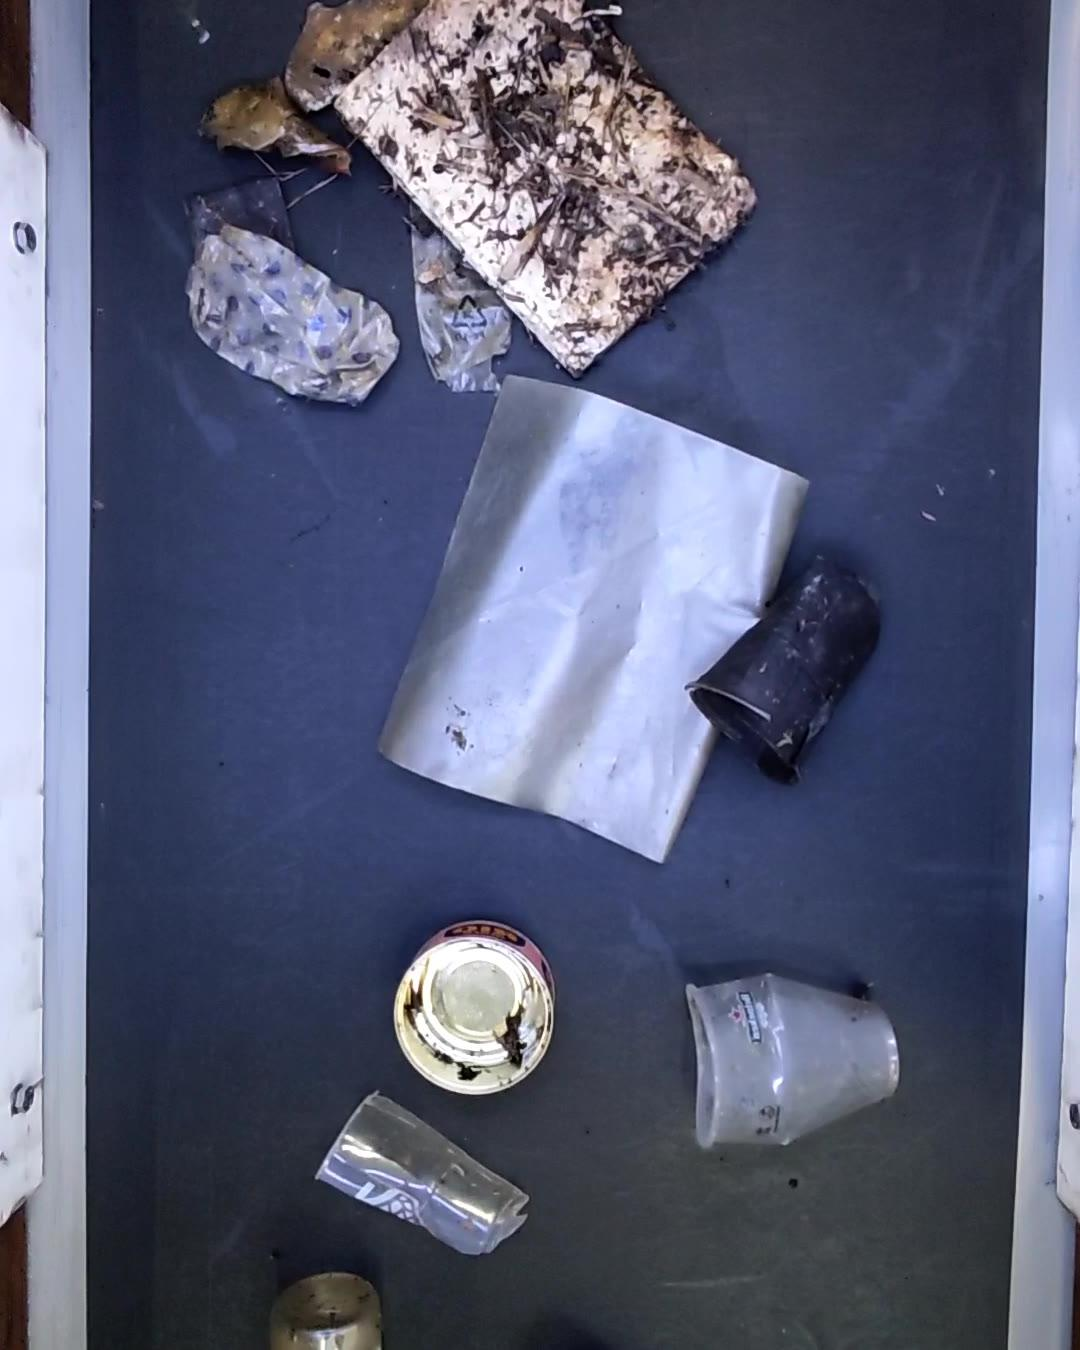Plastic folies of stukken daarvan 2.5- 50 cm: (363, 377, 810, 865), (400, 195, 510, 395)
